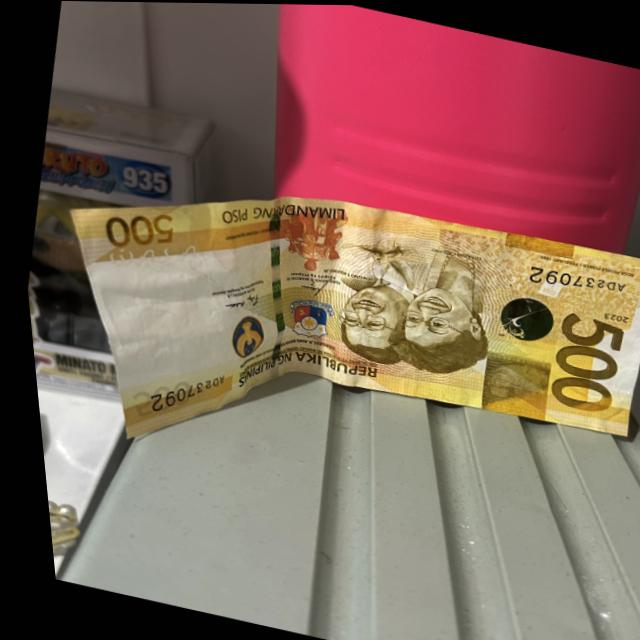concealed_value: (469, 354, 543, 416)
optically_variable_device: (479, 288, 556, 348)
security_thread: (230, 207, 326, 369)
see_through_mark: (94, 228, 208, 280)
serial_number: (129, 358, 230, 426), (513, 257, 634, 305)
value: (531, 305, 631, 419)
